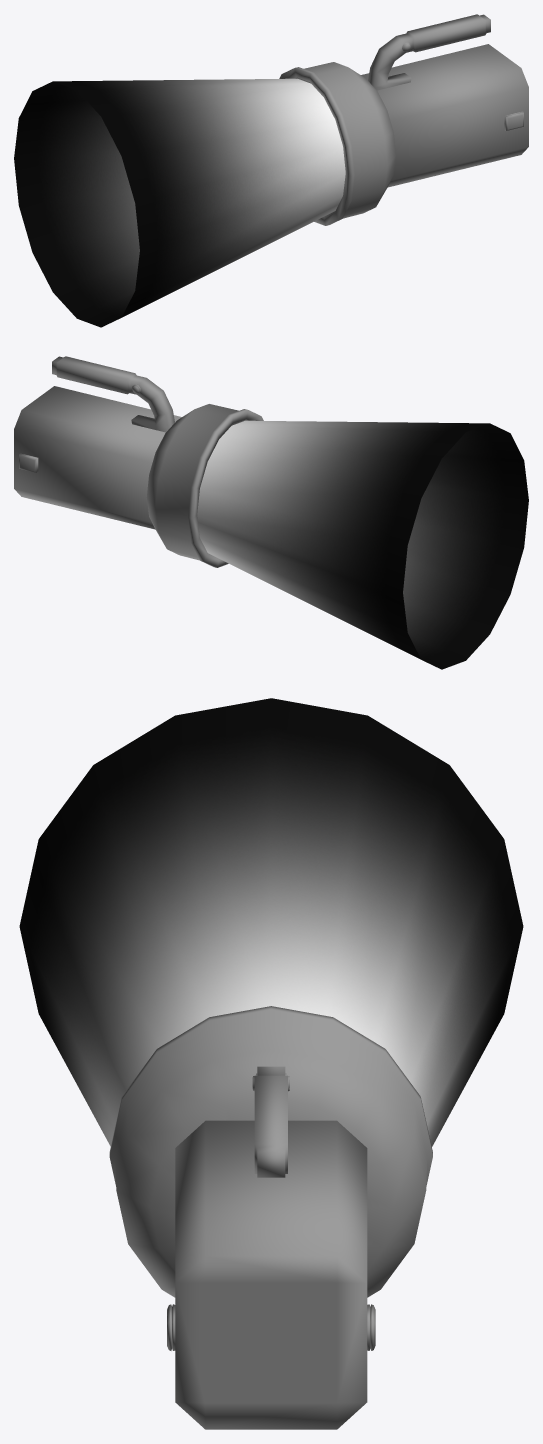
File: BuildersTorch.fbx
3 renders of one model, top to bottom at view 1: azimuth 30°, elevation 25°; view 2: azimuth 150°, elevation 25°; view 3: azimuth 270°, elevation 25°, orthographic. The views are drawn at different scales.
Visible parts, largest first — view 1: LightCone, lp_base; view 2: LightCone, lp_base; view 3: LightCone, lp_base.
Part boxes in pixels (<box>): LightCone: <box>14,78,345,327</box>; lp_base: <box>279,14,528,225</box>; LightCone: <box>197,420,528,669</box>; lp_base: <box>14,356,263,567</box>; LightCone: <box>19,698,523,1146</box>; lp_base: <box>109,1006,432,1429</box>.
Bounding box in the file's own units: 81.23 × 41.42 × 41.42.
